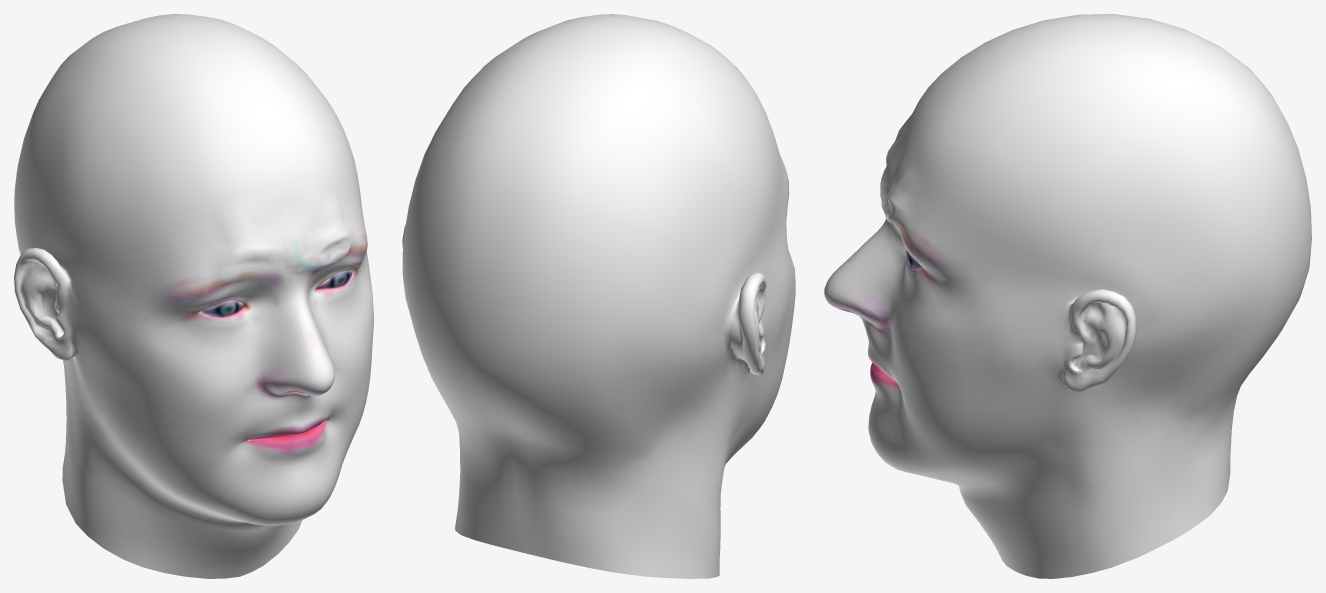
File: random_anyrace_anysex_08.obj
3 renders of one model, left to right at view 1: azimuth 30°, elevation 25°; view 2: azimuth 150°, elevation 25°; view 3: azimuth 270°, elevation 25°, orthographic. The views are drawn at different scales.
Parts seen in each view (by area): view 1: HeadHires; view 2: HeadHires; view 3: HeadHires.
Boxes of the visible parts, x1,y1,x2,y2 form: HeadHires: (14, 14, 373, 578); HeadHires: (402, 14, 795, 578); HeadHires: (824, 14, 1311, 578).
Size of the model in its own units: 189 by 283 by 238.
Materials: 1 (1 with a texture image).
